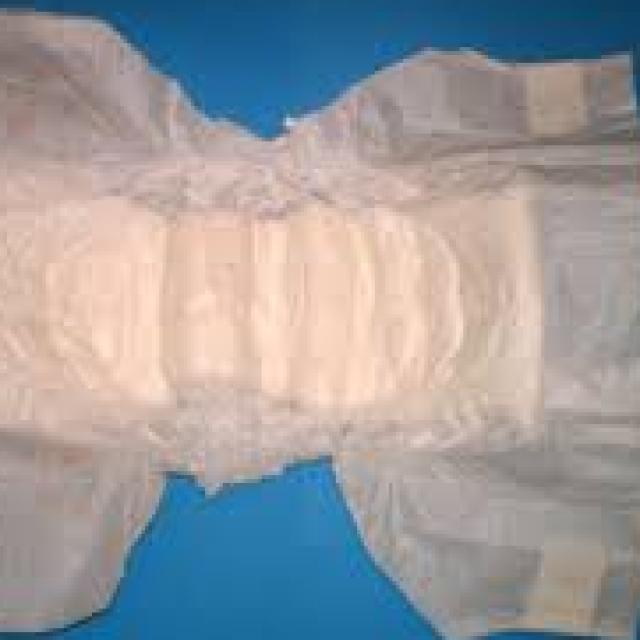organic: (12, 23, 626, 593)
